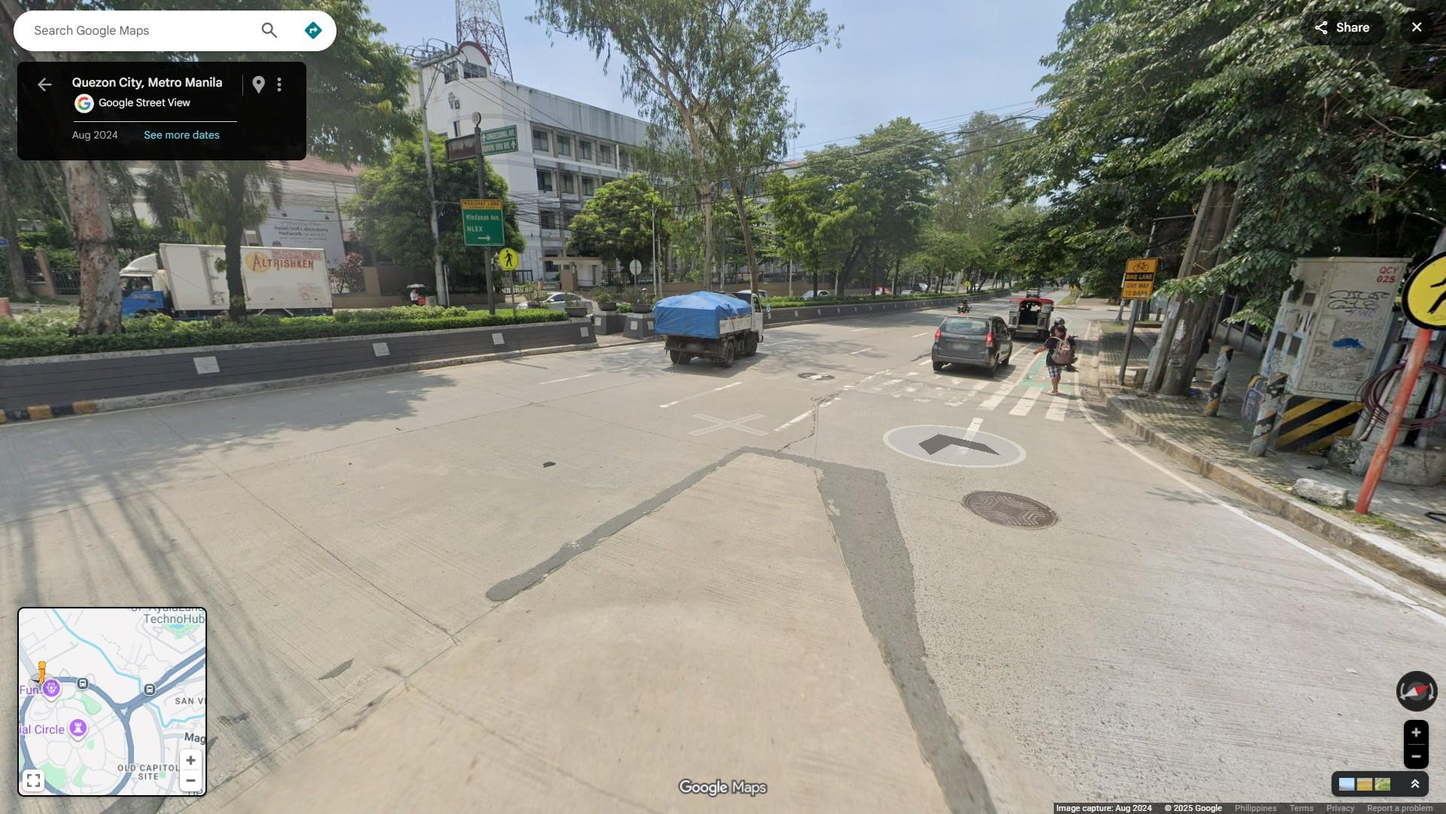pedestrian: (1032, 325, 1070, 395), (1051, 316, 1076, 371), (410, 288, 426, 315)
